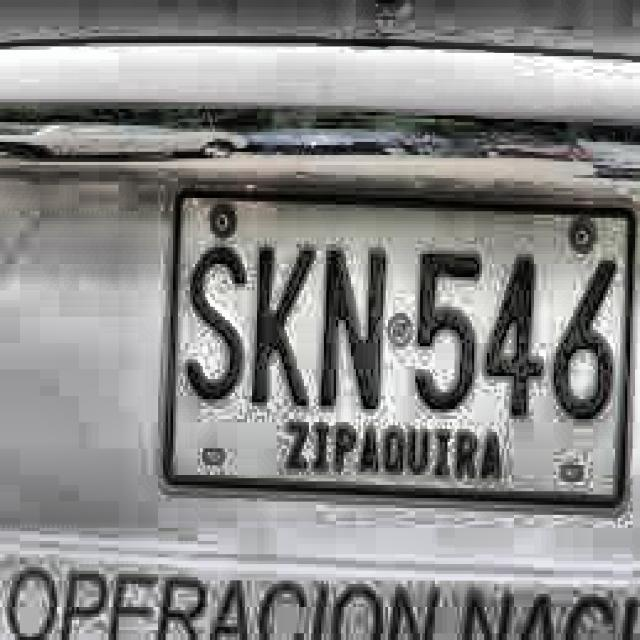plate: (168, 195, 635, 507)
